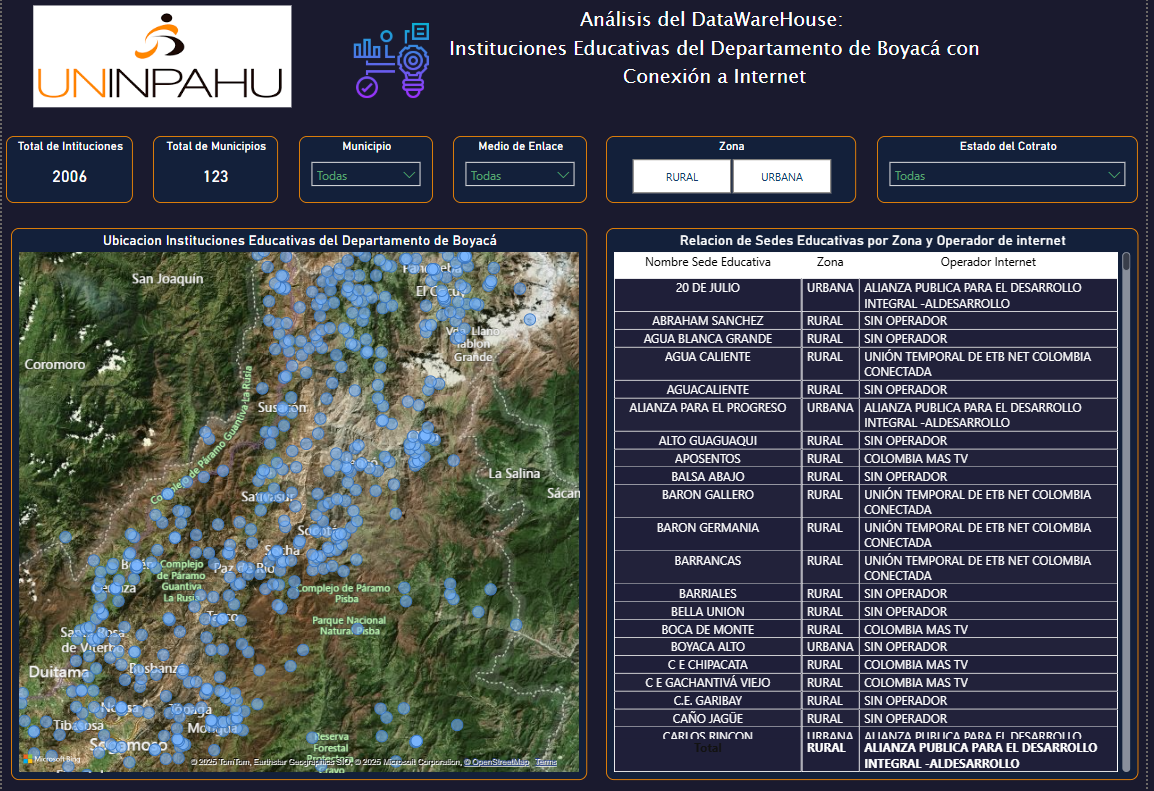

The page's visual inventory and layout, read from the dashboard file:
{"tool":"powerbi","page":{"name":"Resumen_General","canvas":[1280,900],"ordinal":0},"visuals":[{"type":"group","id":"g1","title":"Grupo 1","box":[387.3,7.8,738.8,132.1],"z":0},{"type":"textbox","box":[428.2,7.8,697.9,124.8],"z":0,"group":"g1"},{"type":"image","box":[387.3,8.7,97.4,131.2],"z":1000,"group":"g1"},{"type":"group","id":"g2","title":"Grupo 2","box":[4.5,159,142.2,75],"z":1000},{"type":"card","title":"Total de Intituciones","fields":{"Values":["CountNonNull(fact_conexion_internet.cod_dane_ins_edu)"]},"box":[4.5,159,142.2,75],"z":1000,"group":"g2"},{"type":"map","title":"Ubicacion Instituciones Educativas del Departamento de Boyacá","fields":{"Y":["fact_conexion_internet.latitud"],"X":["fact_conexion_internet.longitud"]},"box":[10.1,261.9,644.8,617.9],"z":2000},{"type":"image","box":[0,7.8,359.3,124.3],"z":3000},{"type":"card","title":"Total de Municipios","fields":{"Values":["CountNonNull(dim_alcaldia.nom_mpio)"]},"box":[169,159,139.9,75],"z":4000},{"type":"slicer","title":"Estado del Cotrato","fields":{"Values":["fact_conexion_internet.estado"]},"box":[979.5,159,292.2,75],"z":5000},{"type":"pivotTable","title":"Relacion de Sedes Educativas por Zona y Operador de internet","fields":{"Rows":["fact_conexion_internet.nom_sede_edu"],"Values":["Min(fact_conexion_internet.zona)","Min(fact_conexion_internet.operador)"]},"box":[676.1,261.9,595.5,617.9],"z":6000},{"type":"slicer","title":"Zona","fields":{"Values":["fact_conexion_internet.zona"]},"box":[676.1,159,279.9,75],"z":7000},{"type":"slicer","title":"Medio de Enlace","fields":{"Values":["fact_conexion_internet.medio_enlace"]},"box":[504.9,159,150,75],"z":8000},{"type":"slicer","title":"Municipio","fields":{"Values":["dim_alcaldia.nom_mpio"]},"box":[332.5,159,150,75],"z":9000},{"type":"actionButton","box":[0,0,100,40],"z":10000}]}

Visuals, with their boxes in screenshot pixels (x1, y1, x2, y2), scaled from the page's 1280x900 canvas onto the 1154x791 screenshot:
"Grupo 1" group: left=349, top=7, right=1015, bottom=123
textbox: left=386, top=7, right=1015, bottom=117
image: left=349, top=8, right=437, bottom=123
"Grupo 2" group: left=4, top=140, right=132, bottom=206
"Total de Intituciones" card: left=4, top=140, right=132, bottom=206
"Ubicacion Instituciones Educativas del Departamento de Boyacá" map: left=9, top=230, right=590, bottom=773
image: left=0, top=7, right=324, bottom=116
"Total de Municipios" card: left=152, top=140, right=278, bottom=206
"Estado del Cotrato" slicer: left=883, top=140, right=1147, bottom=206
"Relacion de Sedes Educativas por Zona y Operador de internet" pivotTable: left=610, top=230, right=1146, bottom=773
"Zona" slicer: left=610, top=140, right=862, bottom=206
"Medio de Enlace" slicer: left=455, top=140, right=590, bottom=206
"Municipio" slicer: left=300, top=140, right=435, bottom=206
actionButton: left=0, top=0, right=90, bottom=35
